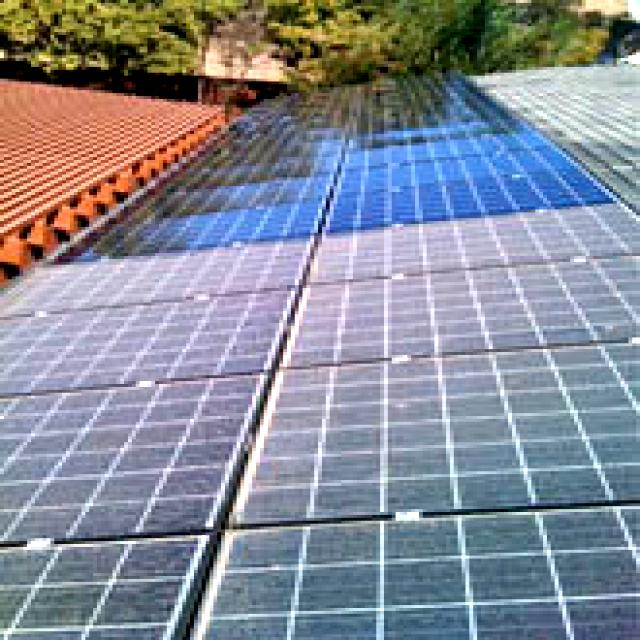dust: (231, 526, 628, 638), (0, 392, 235, 542), (314, 390, 640, 496), (16, 292, 258, 389), (347, 290, 640, 349), (0, 549, 172, 640)
